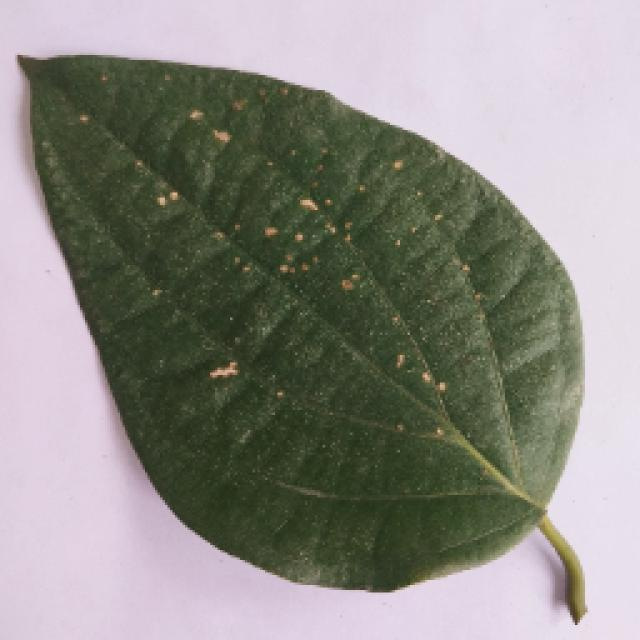pollu-disease: (7, 80, 585, 635)
